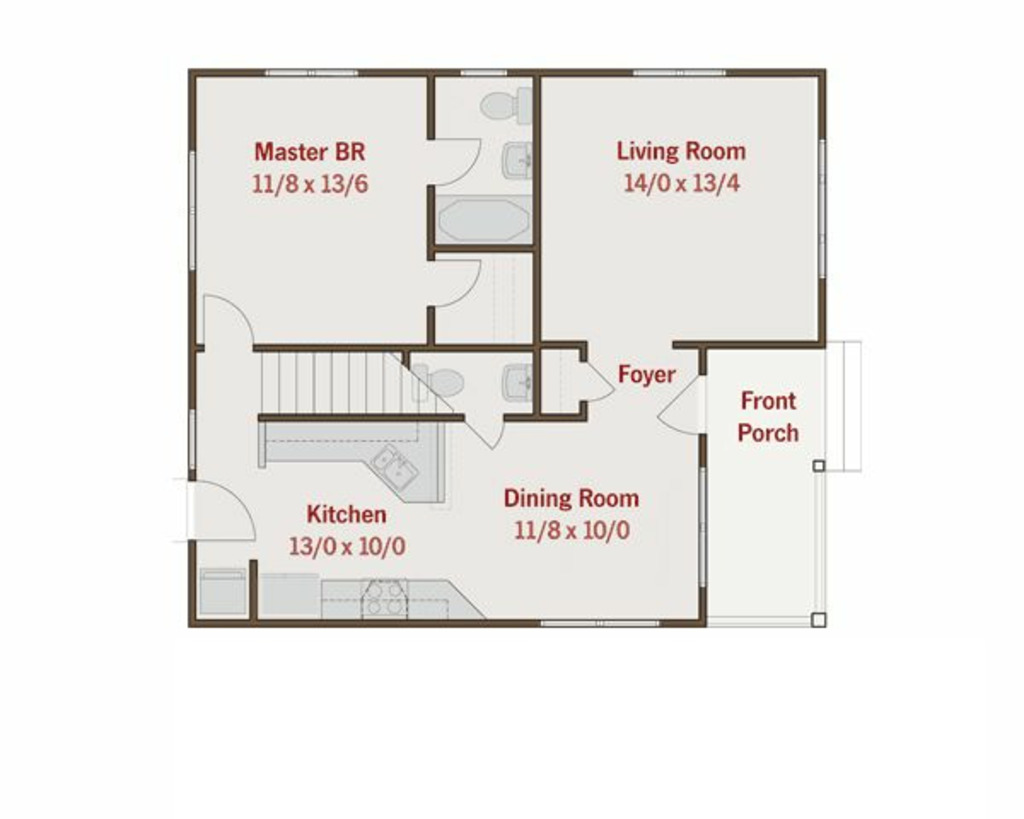door: (172, 473, 257, 548), (644, 364, 723, 444), (200, 286, 252, 355), (429, 254, 486, 306), (431, 135, 487, 187), (462, 408, 512, 460), (578, 355, 619, 410)
large_sink: (410, 363, 472, 411), (477, 83, 536, 129)
small_sink: (501, 131, 543, 186), (493, 362, 539, 406)
stairs: (252, 343, 433, 416)
tub: (433, 192, 534, 255)
twin_sink: (358, 438, 429, 513)
window: (630, 65, 728, 82), (259, 64, 361, 79), (457, 63, 505, 79)
